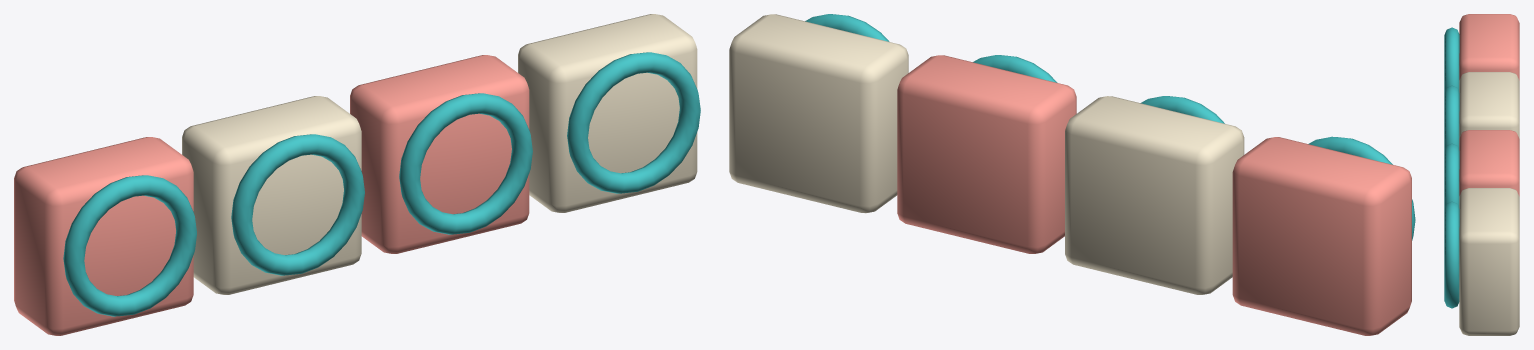
The model's file is r065_kart_track_barriers_barrier_02.glb.
3 views of the same model, side by side, from view 1: azimuth 30°, elevation 25°; view 2: azimuth 150°, elevation 25°; view 3: azimuth 270°, elevation 25° (orthographic). The views are drawn at different scales.
Parts seen in each view (by area): view 1: r065_kart_track_barriers_barrier_02.001; view 2: r065_kart_track_barriers_barrier_02.001; view 3: r065_kart_track_barriers_barrier_02.001.
Part boxes in pixels (bbox=[...]): r065_kart_track_barriers_barrier_02.001: bbox=[14, 14, 700, 335]; r065_kart_track_barriers_barrier_02.001: bbox=[729, 14, 1415, 335]; r065_kart_track_barriers_barrier_02.001: bbox=[1444, 14, 1519, 335].
Bounding box in the file's own units: 4.85 × 1.09 × 0.685.
